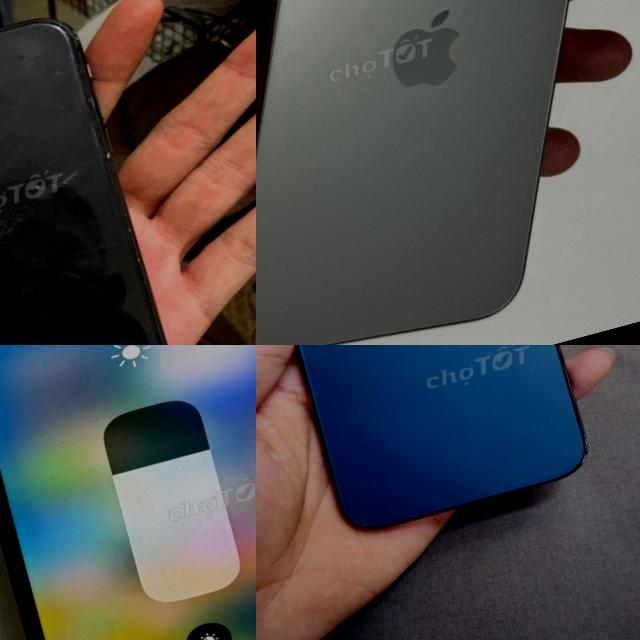gen_11: (0, 0, 209, 345)
gen_12_13: (256, 345, 594, 543)
gen_15: (256, 0, 640, 345)
gen_7_8: (0, 345, 256, 640)
